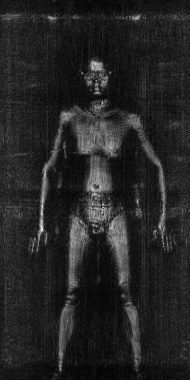gun: (131, 178, 150, 223)
